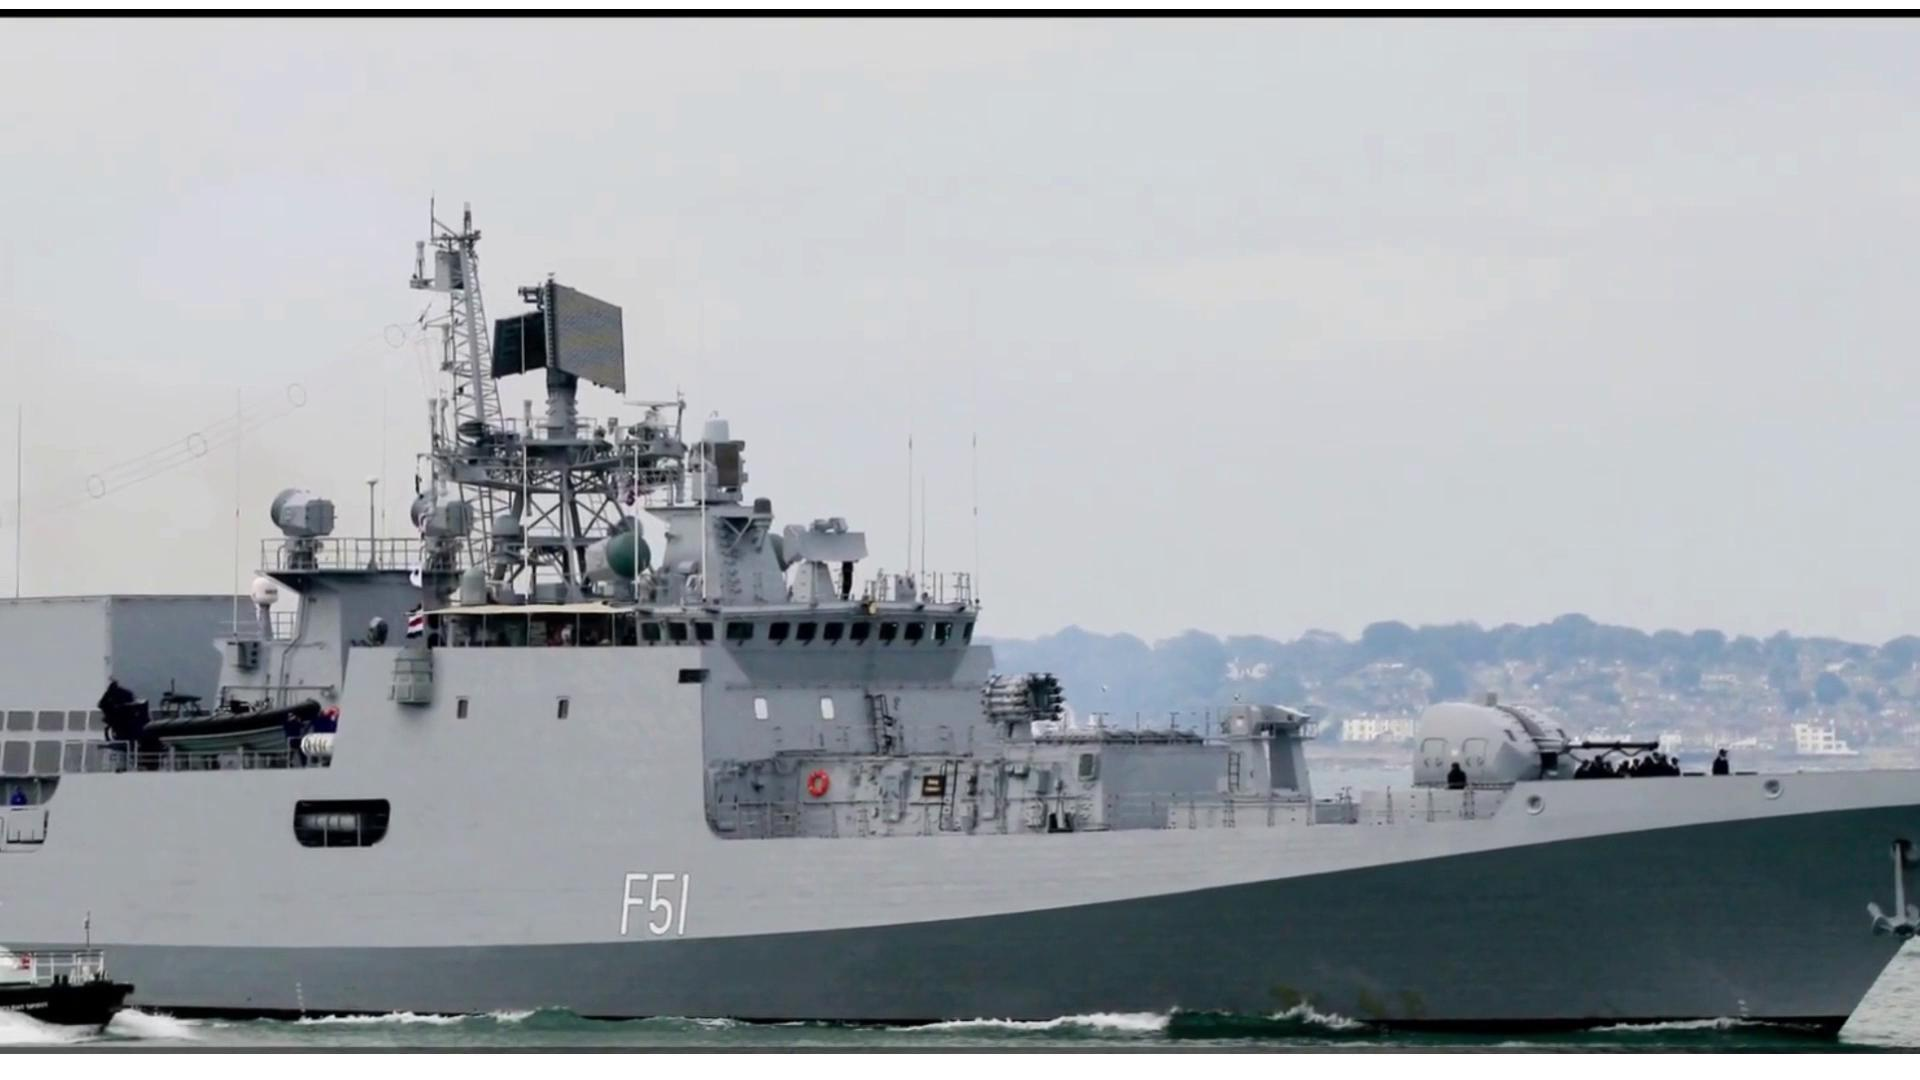OCR: (603, 861, 705, 949)
